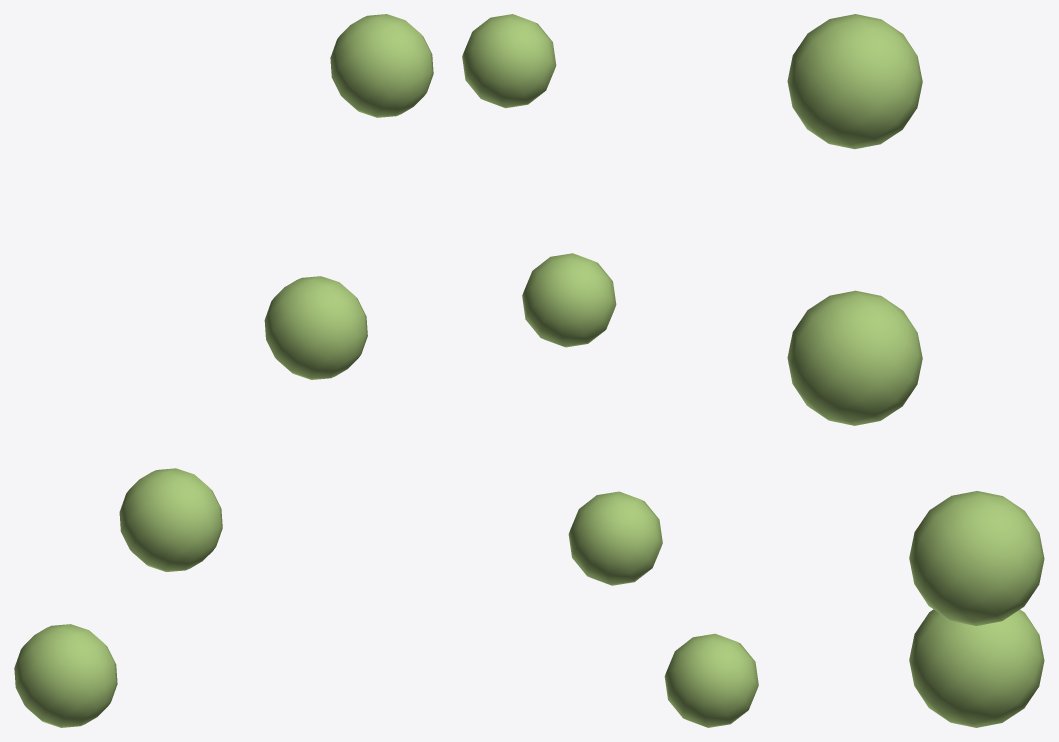
The model's file is intermediate-common-iliac-nodes.glb.
3 views of the same model, side by side, from view 1: azimuth 30°, elevation 25°; view 2: azimuth 150°, elevation 25°; view 3: azimuth 270°, elevation 25° (orthographic). The views are drawn at different scales.
Parts seen in each view (by area): view 1: Intermediate common iliac nodes; view 2: Intermediate common iliac nodes; view 3: Intermediate common iliac nodes.
Boxes of the visible parts, bbox=[...] form: Intermediate common iliac nodes: bbox=[14, 14, 433, 727]; Intermediate common iliac nodes: bbox=[462, 14, 758, 727]; Intermediate common iliac nodes: bbox=[787, 14, 1044, 727].
Size of the model in its own units: 0.0102 by 0.0185 by 0.00494.
